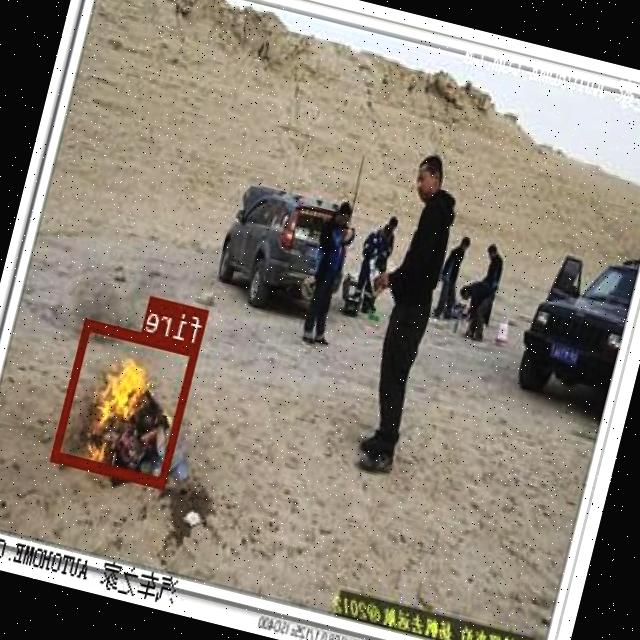fire: (52, 317, 202, 486)
